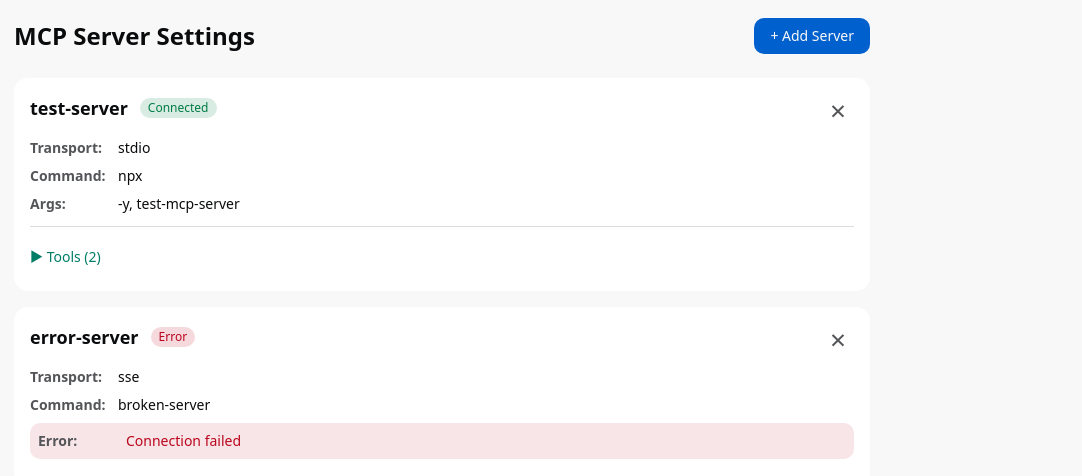
Test: MCPSettings › removing servers › should show success toast after removing server
Expected: the heading "test-server" is shown, [30,94,128,122]
Click the button titled "Remove server" in the row of "Connected" at (838, 110), box [822,94,854,126]
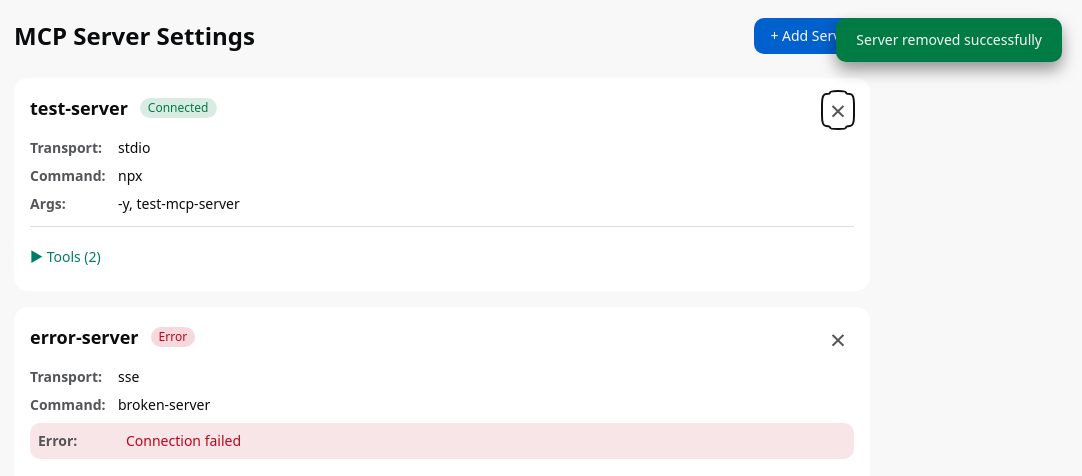
Now the text "Server removed successfully" is shown, box [836,18,1062,62]
